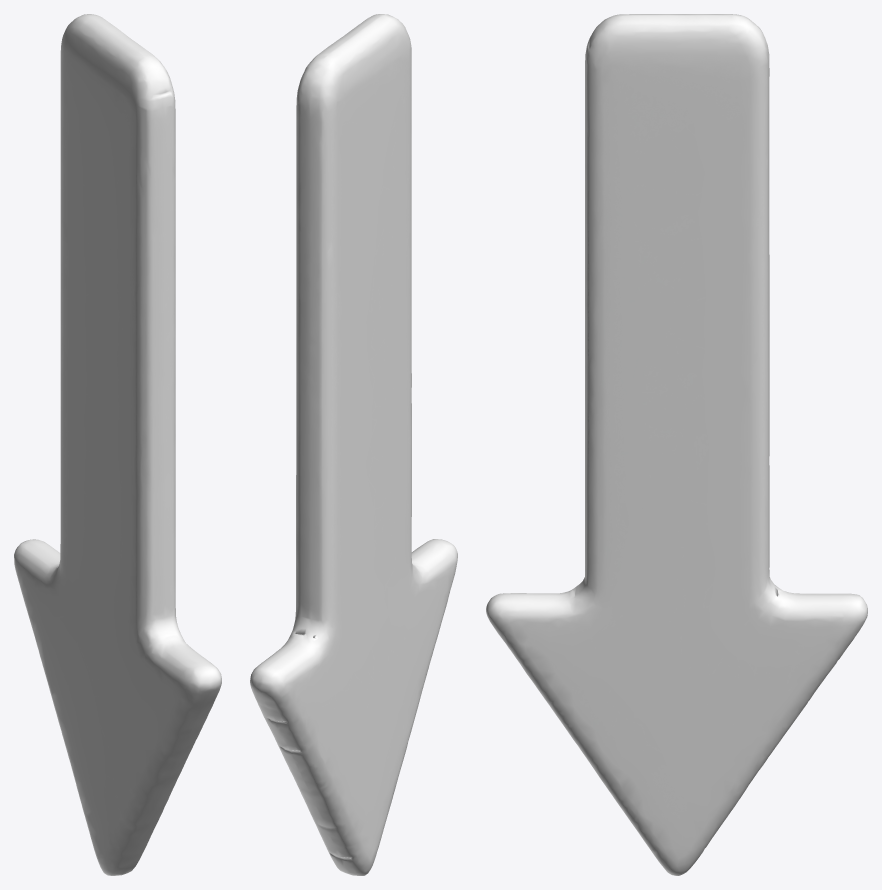
Rendered from An Arrow p....glb.
3 views of the same model, side by side, from view 1: azimuth 30°, elevation 25°; view 2: azimuth 150°, elevation 25°; view 3: azimuth 270°, elevation 25° (orthographic). The views are drawn at different scales.
Size of the model in its own units: 0.0981 by 2 by 0.8095.
1 material, 1 textured.
